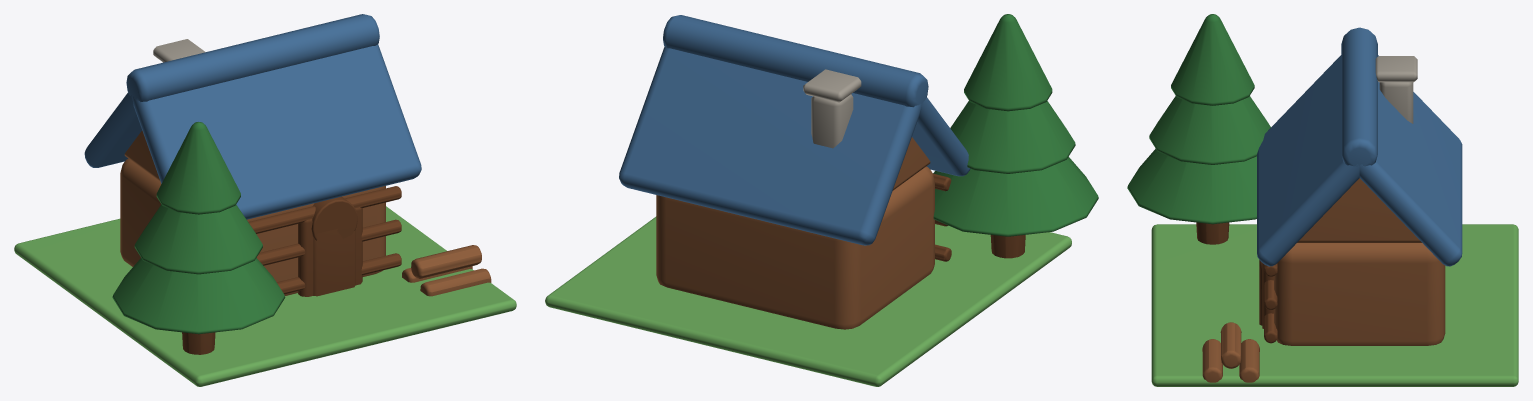
3 renders of one model, left to right at view 1: azimuth 30°, elevation 25°; view 2: azimuth 150°, elevation 25°; view 3: azimuth 270°, elevation 25°, orthographic. The views are drawn at different scales.
Parts seen in each view (by area): view 1: Cube; view 2: Cube; view 3: Cube.
Boxes of the visible parts, left/top/right/bottom form: Cube: left=14, top=14, right=516, bottom=386; Cube: left=545, top=14, right=1098, bottom=386; Cube: left=1127, top=14, right=1518, bottom=386.
Bounding box in the file's own units: 0.6798 × 0.423 × 0.6398.
